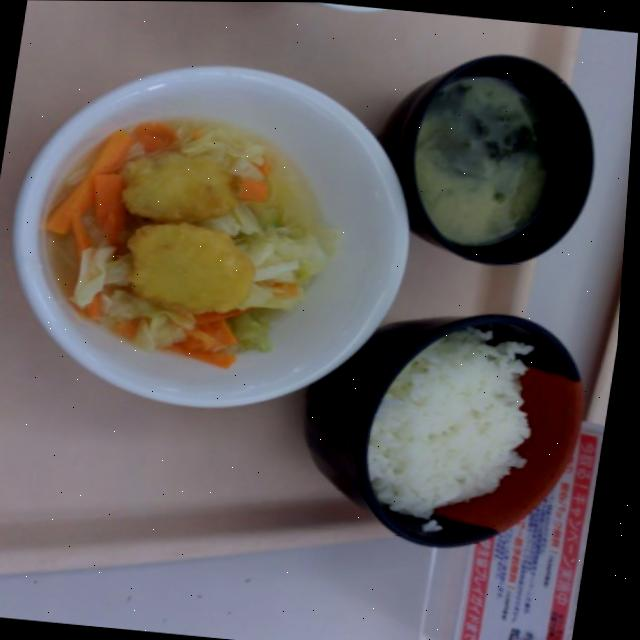米饭主食: (344, 305, 602, 564)
